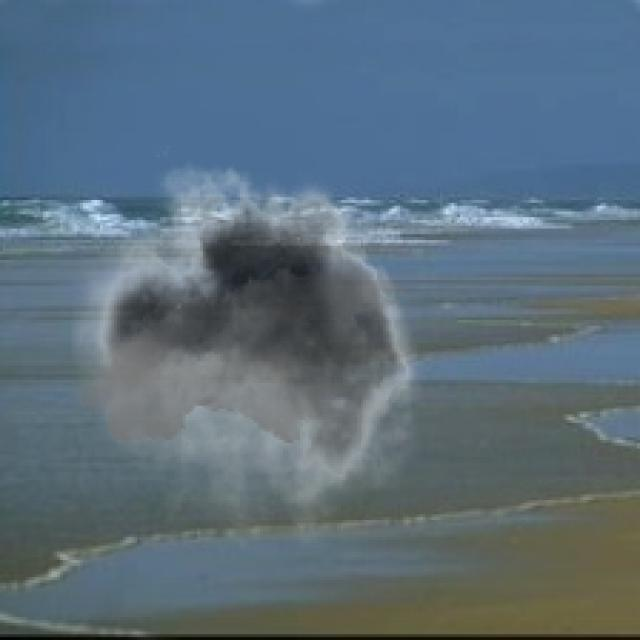smoke: (72, 146, 437, 551)
